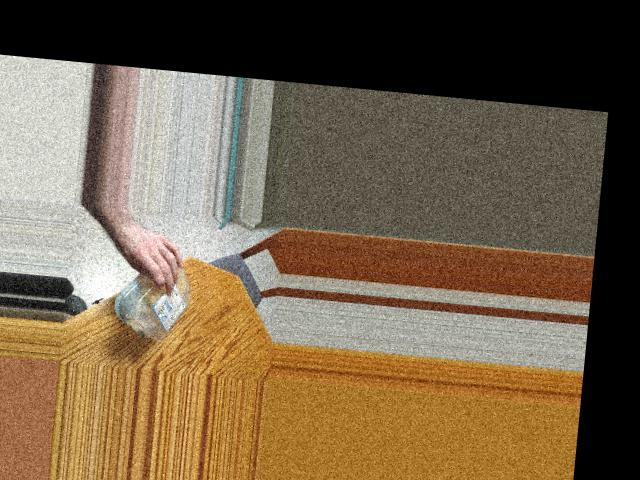cheese: (116, 243, 197, 345)
